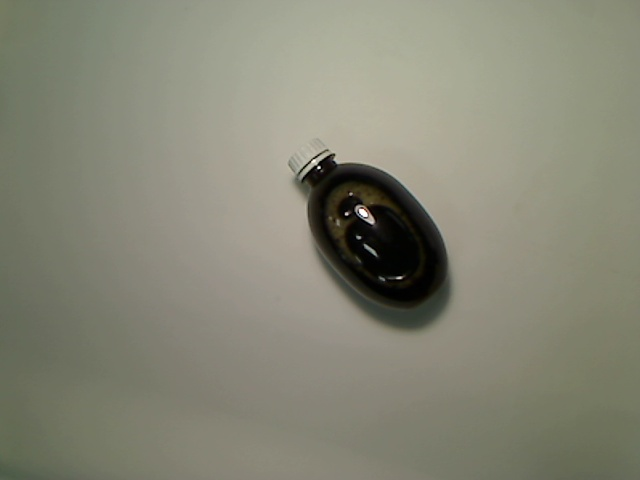plast_bottle: (287, 136, 449, 312)
